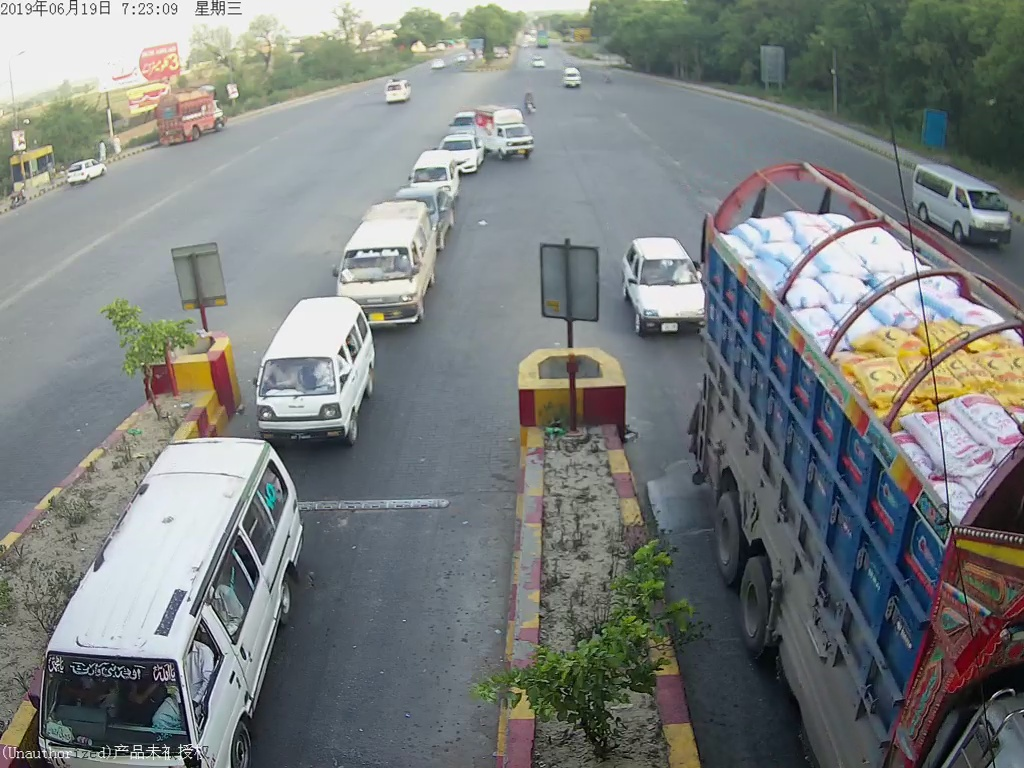Cat-1: (248, 298, 367, 438), (627, 241, 696, 340)
Cat-2: (38, 443, 312, 768), (340, 216, 433, 324)
